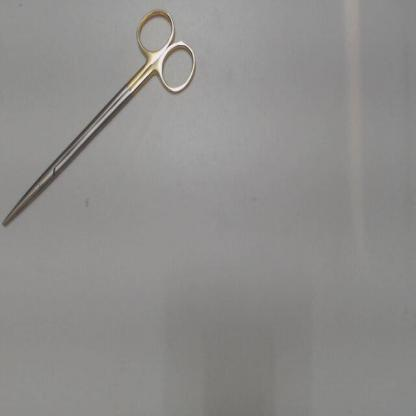7 Metzenbaum Scissors: (1, 6, 201, 232)
